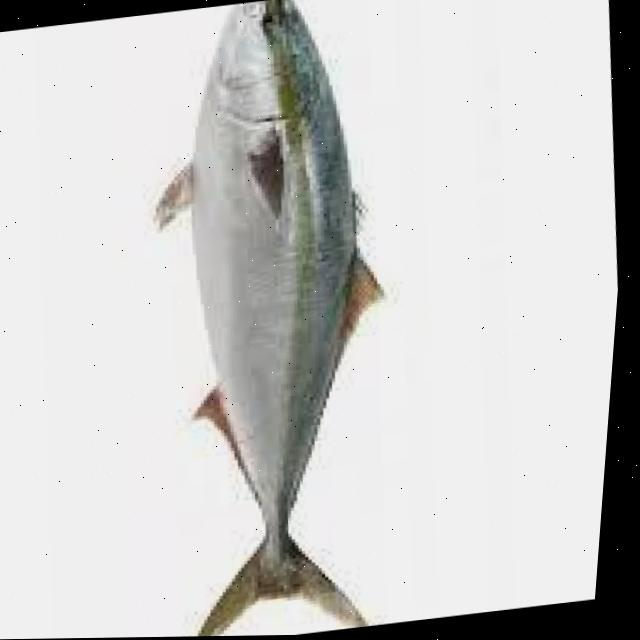Kingfish: (106, 0, 452, 638)
